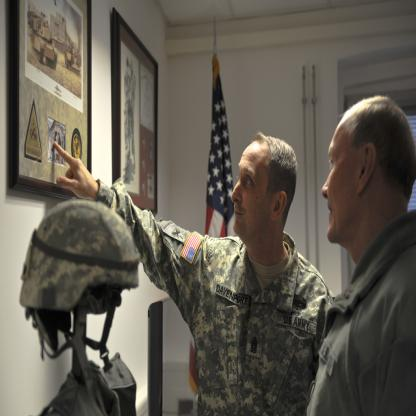Helmet: (22, 204, 140, 367)
